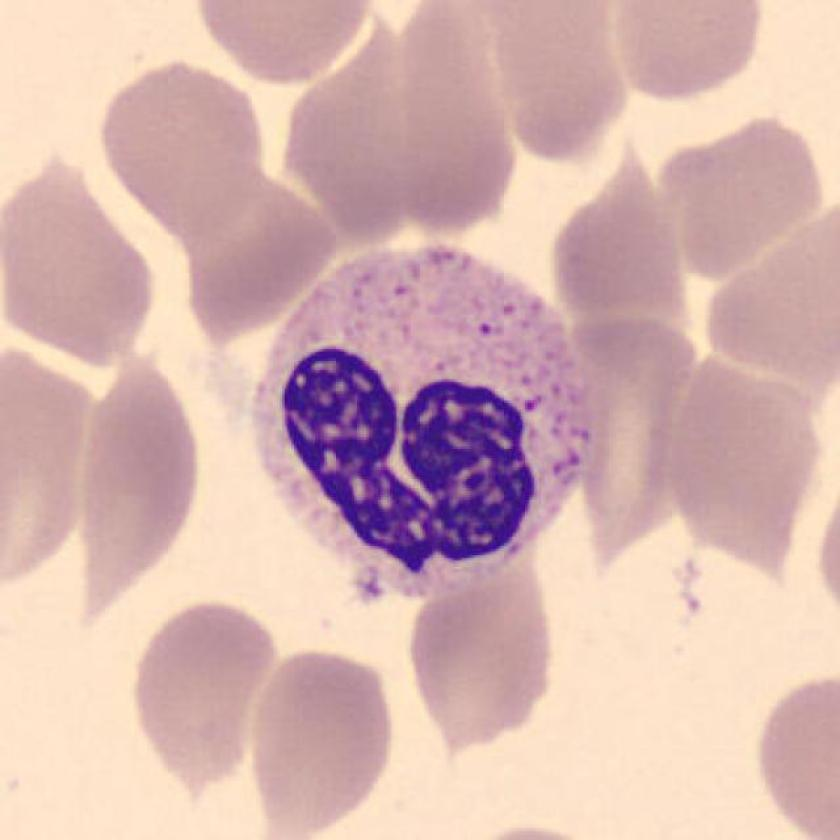neutrophil: (250, 244, 585, 597)
